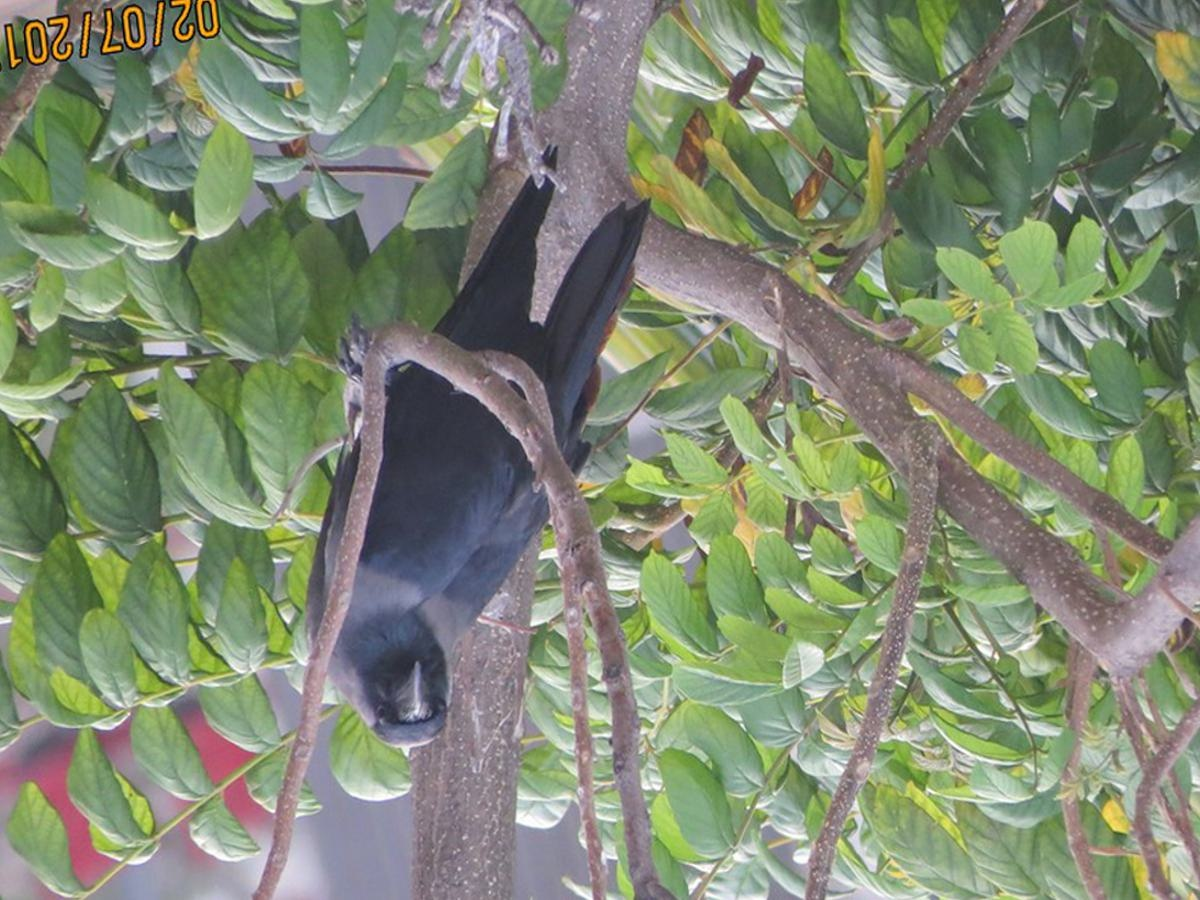crow: (306, 151, 645, 756)
